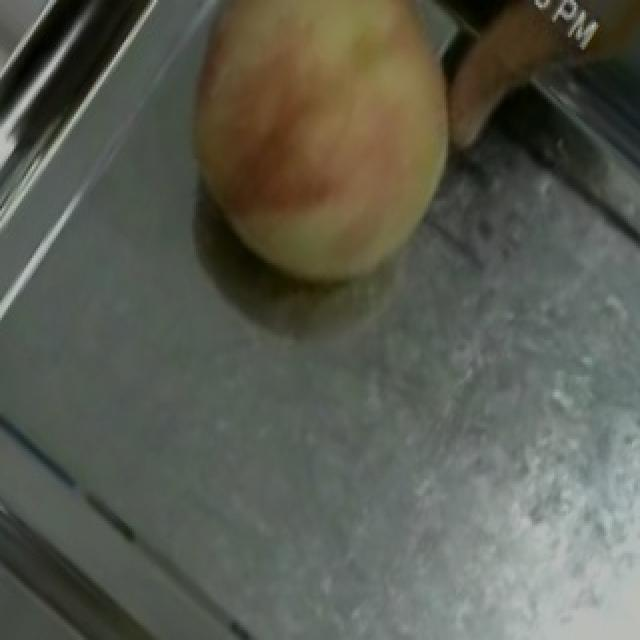Fruit: (142, 0, 468, 330)
